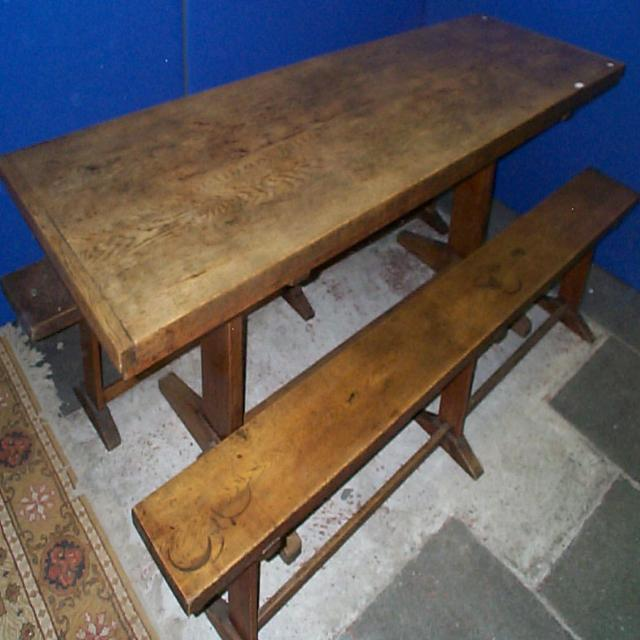table: (0, 12, 627, 452)
